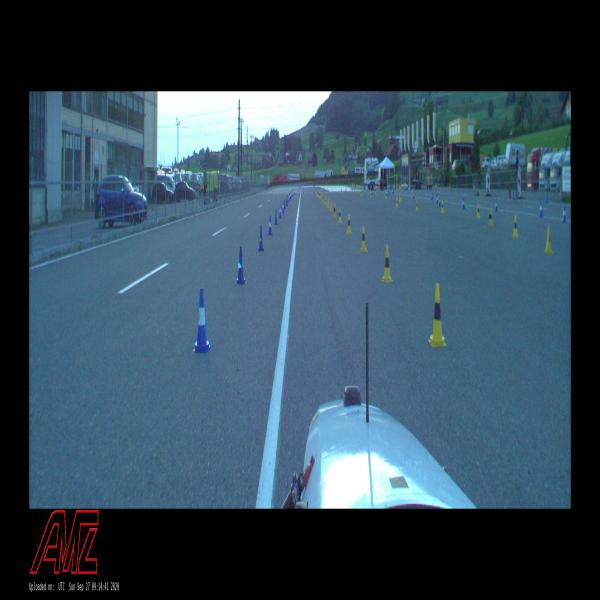blue_cone: (193, 290, 211, 352), (236, 246, 247, 284), (258, 226, 264, 251), (268, 215, 273, 235), (562, 205, 567, 222), (274, 208, 278, 224), (539, 201, 543, 216), (279, 205, 282, 218), (495, 199, 498, 211), (462, 198, 465, 208), (438, 197, 441, 207), (545, 193, 548, 203), (282, 202, 284, 213), (284, 198, 286, 209), (436, 193, 438, 204), (286, 196, 288, 206), (287, 194, 289, 203), (289, 193, 290, 201)
yellow_cone: (429, 283, 446, 346), (382, 244, 393, 282), (360, 226, 368, 252), (545, 226, 552, 254), (513, 215, 518, 237), (347, 213, 351, 233), (489, 210, 493, 226), (476, 204, 480, 219), (338, 208, 342, 222), (441, 201, 444, 212), (327, 198, 330, 208), (334, 203, 336, 216), (330, 200, 332, 212), (396, 196, 398, 207), (416, 200, 418, 210), (324, 195, 326, 204), (385, 191, 387, 198), (322, 194, 323, 202)
